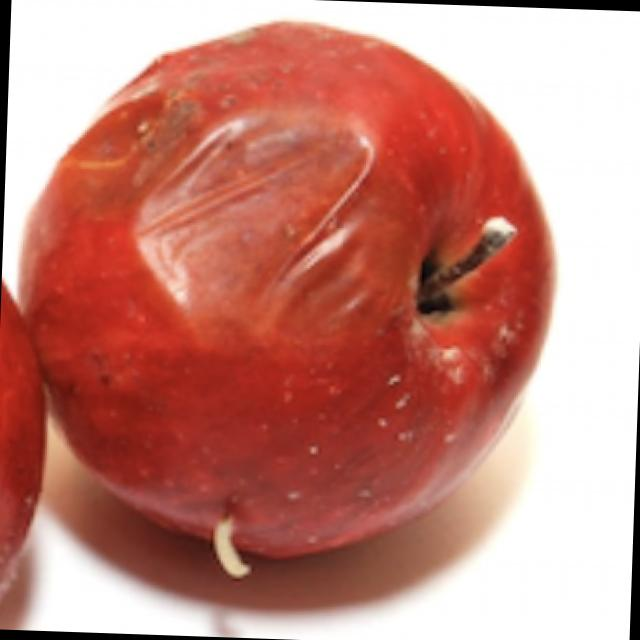rotten_apple: (23, 11, 567, 586)
